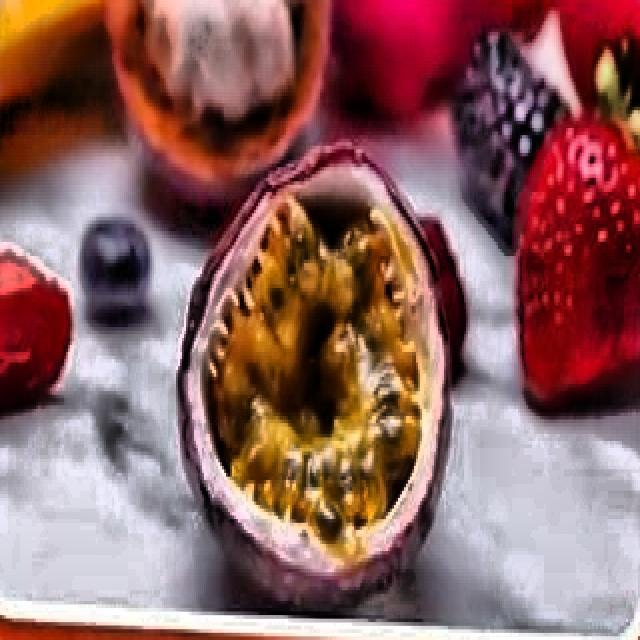Fruit: (60, 0, 536, 583)
